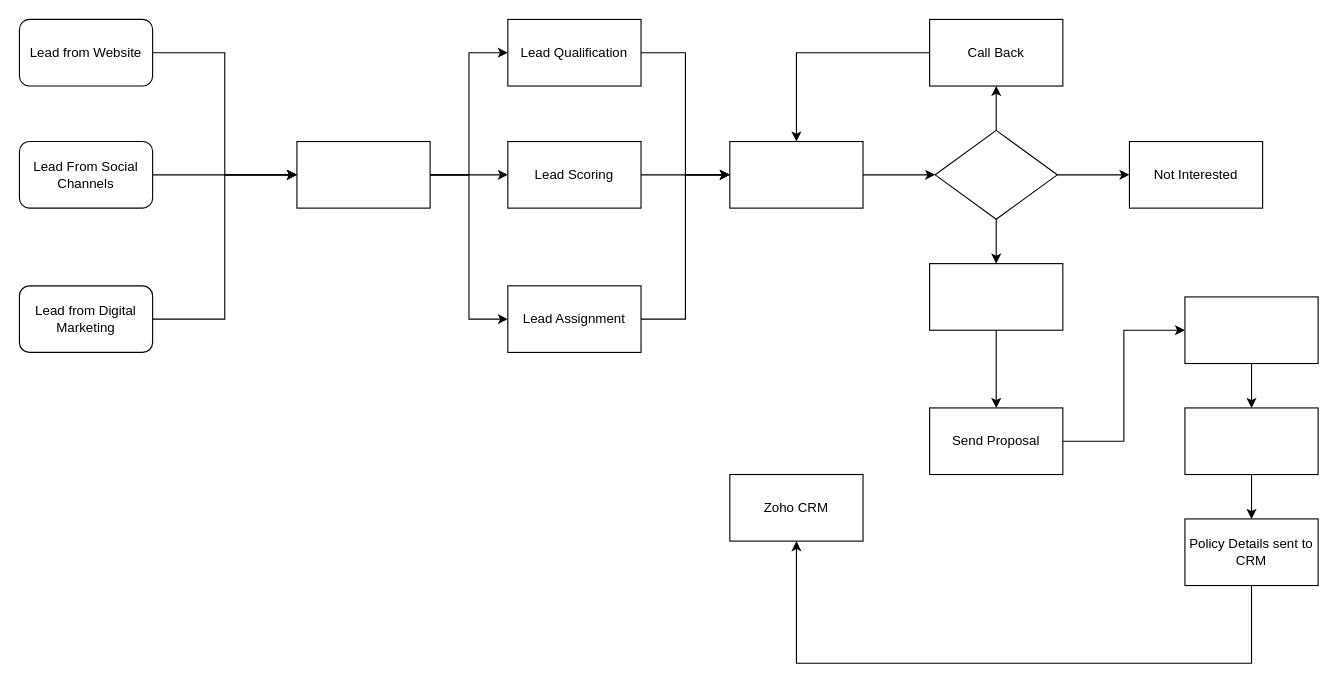
Some shapes in this 1338 by 692 pixel diagram are drawn without their labels. Each missing label, with the centre of its shape:
"Customer Decides" goes at pixel 995 174.
"Customer fills profile and makes Payment" goes at pixel 1251 330.
"Details sent to TCS BANCS" goes at pixel 1251 441.
"Inte rested" goes at pixel 996 296.
"Leads get created in CRM" goes at pixel 363 174.
"Web Sales Rep Makes call" goes at pixel 796 174.
